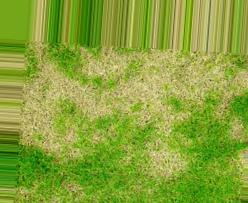patch: (101, 51, 180, 115), (30, 116, 88, 161), (41, 67, 102, 109), (181, 58, 242, 93), (153, 148, 183, 174)
